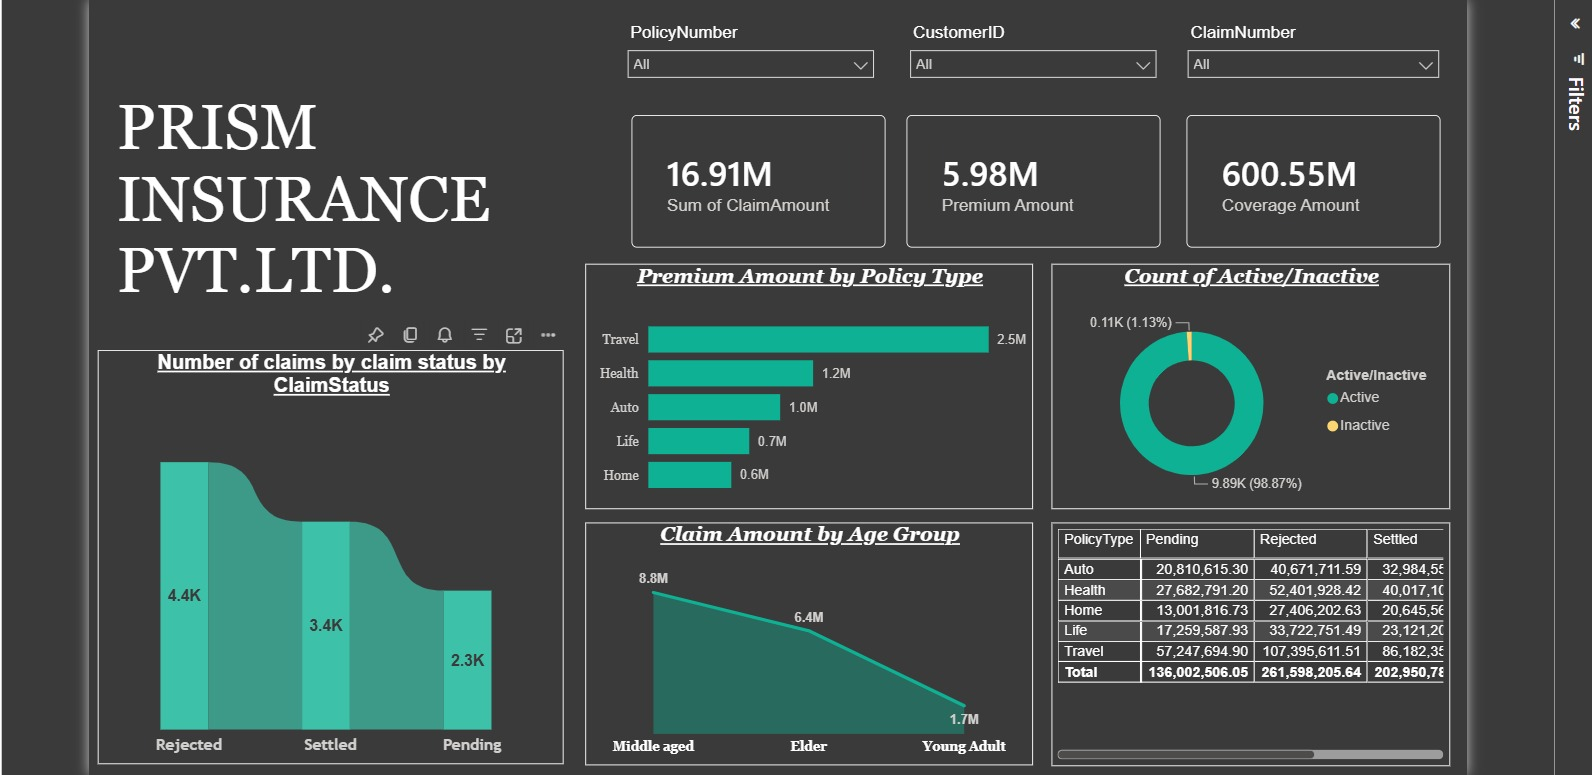

What the dashboard file says about the page in this screenshot:
{"tool":"powerbi","page":{"name":"Page 1","canvas":[1280,720],"ordinal":0},"visuals":[{"type":"slicer","fields":{"Values":["InsuranceData.PolicyNumber"]},"box":[490.4,15.9,249.5,90.5],"z":0},{"type":"slicer","fields":{"Values":["InsuranceData.CustomerID"]},"box":[752,15.9,249.5,90.5],"z":1000},{"type":"slicer","fields":{"Values":["InsuranceData.ClaimNumber"]},"box":[1010.1,15.9,254.3,90.5],"z":2000},{"type":"textbox","box":[20.5,15.7,469.3,343.8],"z":3000},{"type":"cardVisual","fields":{"Data":["Sum(InsuranceData.ClaimAmount)"]},"box":[503.8,106.4,236,123.5],"z":4000},{"type":"cardVisual","fields":{"Data":["Sum(InsuranceData.PremiumAmount)"]},"box":[759.4,106.4,236,123.5],"z":5000},{"type":"cardVisual","fields":{"Data":["Sum(InsuranceData.CoverageAmount)"]},"box":[1019.8,106.4,236,123.5],"z":6000},{"type":"ribbonChart","fields":{"Category":["InsuranceData.ClaimStatus"],"Y":["CountNonNull(InsuranceData.ClaimStatus)"]},"box":[8.4,325.7,433.1,384.9],"z":7000},{"type":"barChart","title":"Premium Amount by Policy Type","fields":{"Category":["InsuranceData.PolicyType"],"Y":["Sum(InsuranceData.PremiumAmount)"]},"box":[460.9,244.9,416.2,228],"z":8000},{"type":"lineChart","title":"Claim Amount by Age Group","fields":{"Category":["InsuranceData.Age Group"],"Y":["Sum(InsuranceData.ClaimAmount)"]},"box":[460.9,485,416.2,225.6],"z":9000},{"type":"donutChart","title":"Count of Active/Inactive","fields":{"Category":["InsuranceData.Active/Inactive"],"Y":["CountNonNull(InsuranceData.Active/Inactive)"]},"box":[894,244.9,370.4,228],"z":10000},{"type":"pivotTable","fields":{"Columns":["InsuranceData.ClaimStatus"],"Rows":["InsuranceData.PolicyType"],"Values":["Sum(InsuranceData.CoverageAmount)"]},"box":[894,485,370,226],"z":11000}]}

Visuals, with their boxes on the page's 1280x720 design canvas (x1, y1, x2, y2). These are canvas units, not pixel positions in the 1592x775 screenshot, which may show the page scaled, cropped or inside an application window:
slicer - InsuranceData.PolicyNumber: left=490, top=16, right=740, bottom=106
slicer - InsuranceData.CustomerID: left=752, top=16, right=1002, bottom=106
slicer - InsuranceData.ClaimNumber: left=1010, top=16, right=1264, bottom=106
textbox: left=20, top=16, right=490, bottom=360
cardVisual - Sum(InsuranceData.ClaimAmount): left=504, top=106, right=740, bottom=230
cardVisual - Sum(InsuranceData.PremiumAmount): left=759, top=106, right=995, bottom=230
cardVisual - Sum(InsuranceData.CoverageAmount): left=1020, top=106, right=1256, bottom=230
ribbonChart - InsuranceData.ClaimStatus x CountNonNull(InsuranceData.ClaimStatus): left=8, top=326, right=442, bottom=711
"Premium Amount by Policy Type" barChart: left=461, top=245, right=877, bottom=473
"Claim Amount by Age Group" lineChart: left=461, top=485, right=877, bottom=711
"Count of Active/Inactive" donutChart: left=894, top=245, right=1264, bottom=473
pivotTable - InsuranceData.ClaimStatus x InsuranceData.PolicyType: left=894, top=485, right=1264, bottom=711
